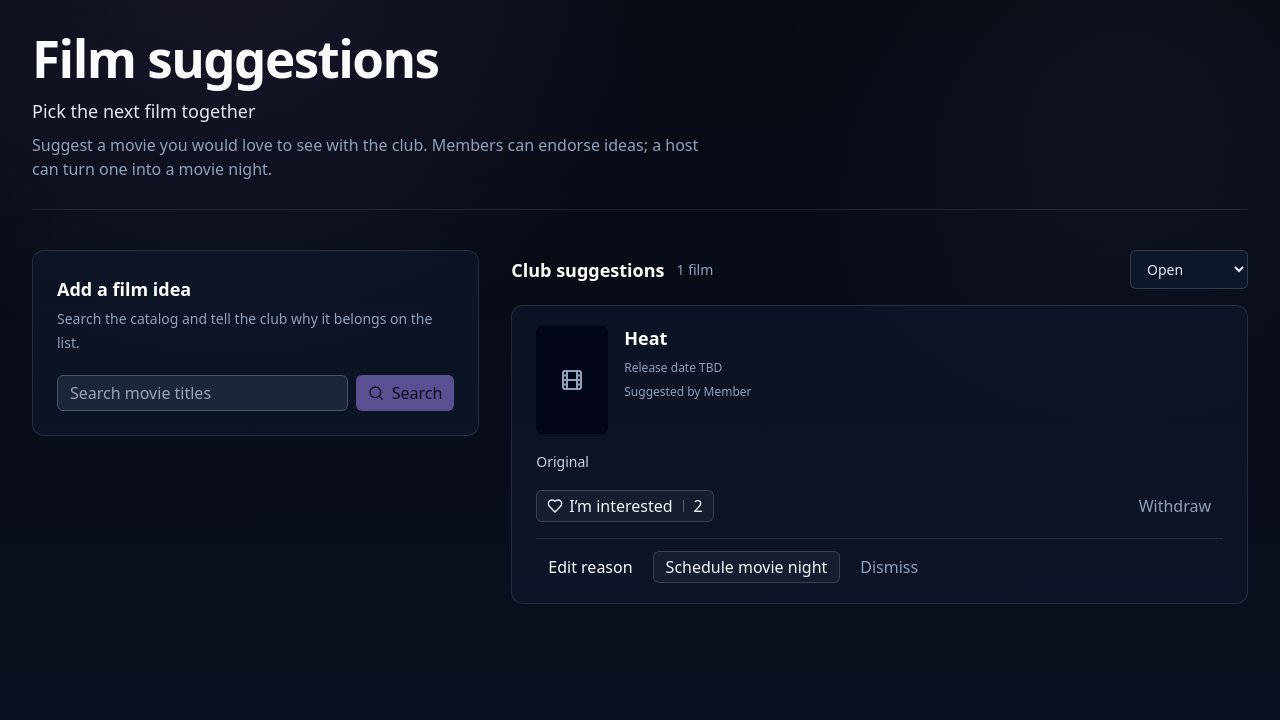
it: film proposal controls › shows an empty search state only after a completed search
Expected: the heading "Heat" is shown, [624,326,667,350]
Type "Missing film" into the field labelled "Search movie titles" at (202, 393), box [57,375,348,411]
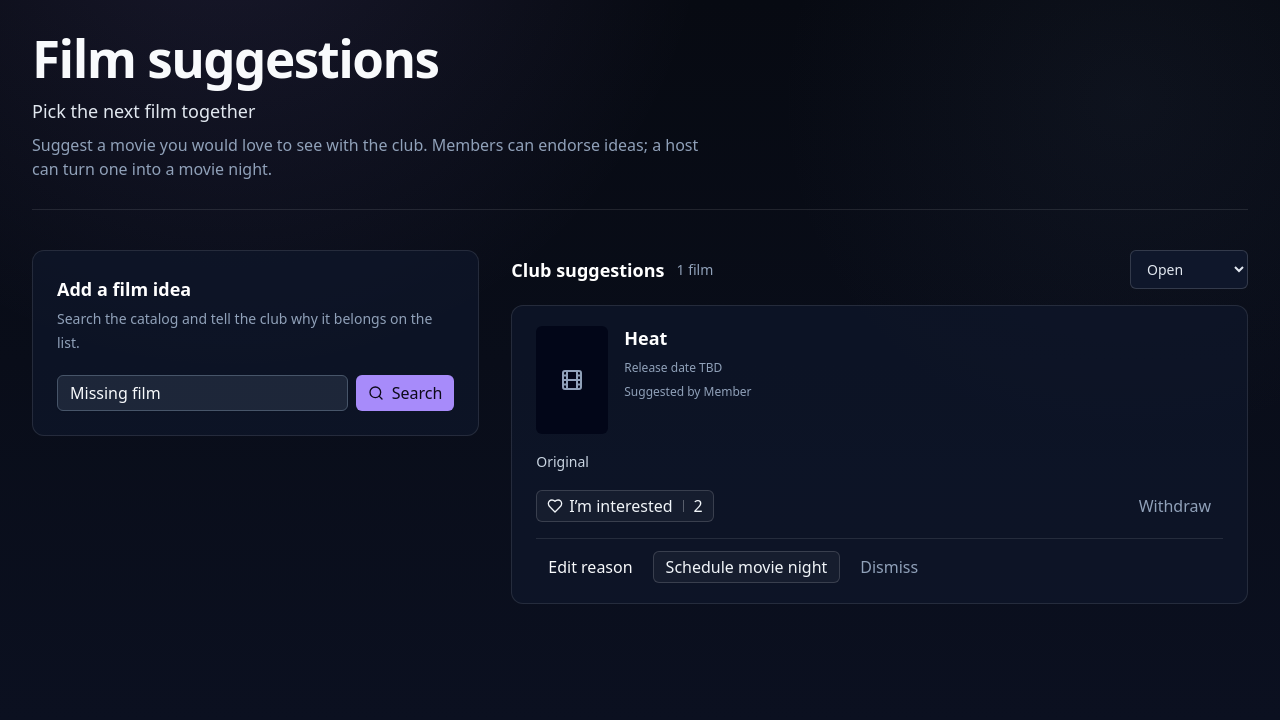
Expected: the text "No films found. Try another title." is not shown
Click the button with aria-label "Search movies" at (405, 393), box [356,375,454,411]
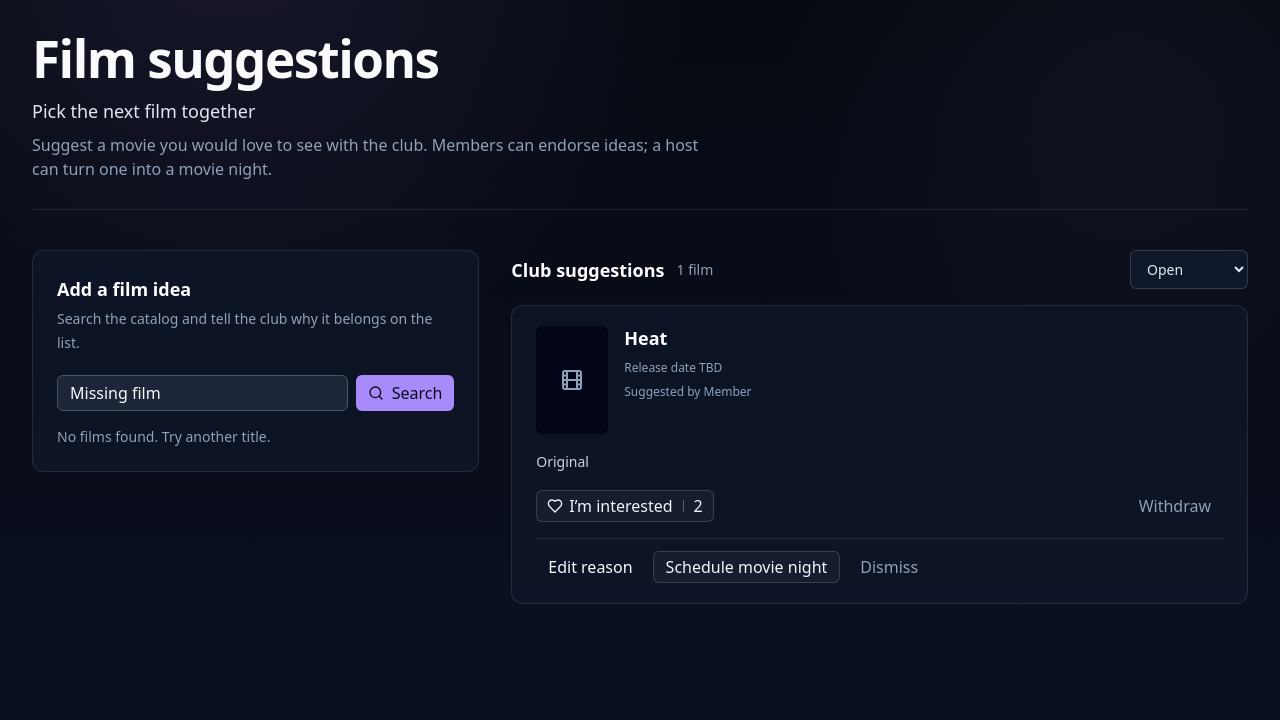
Now the text "No films found. Try another title." is shown, box [57,427,270,446]
Replace the text in the field named "Search movie titles" with "Another film" at (202, 393), box [57,375,348,411]
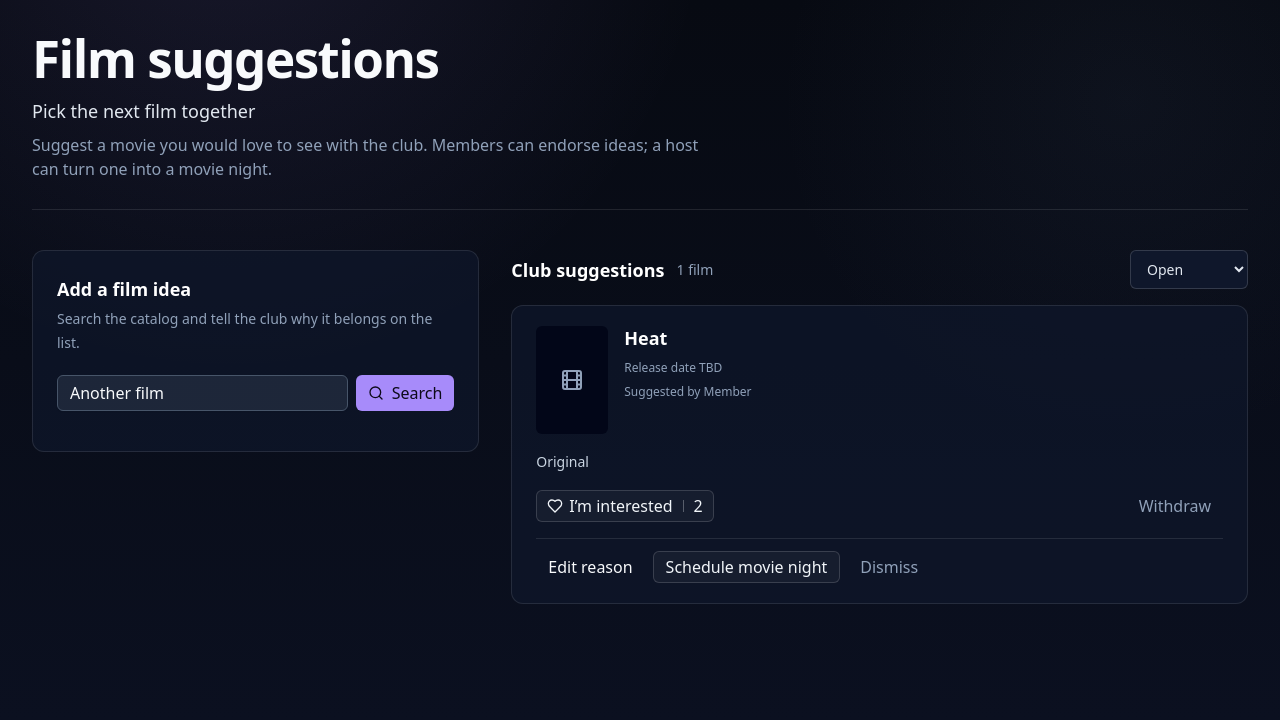
Now the text "No films found. Try another title." is gone
